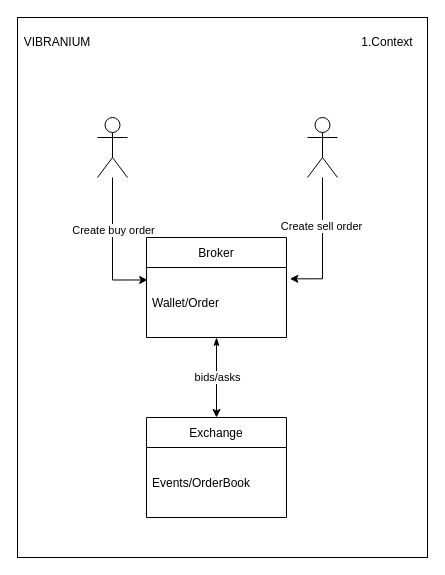
The diagram is 445 pixels wide and 575 high, and some of its shapes have lost their labels. Each missing label, with the centre of its shape:
Customer 1: (x=112, y=147)
Customer 2: (x=322, y=147)
